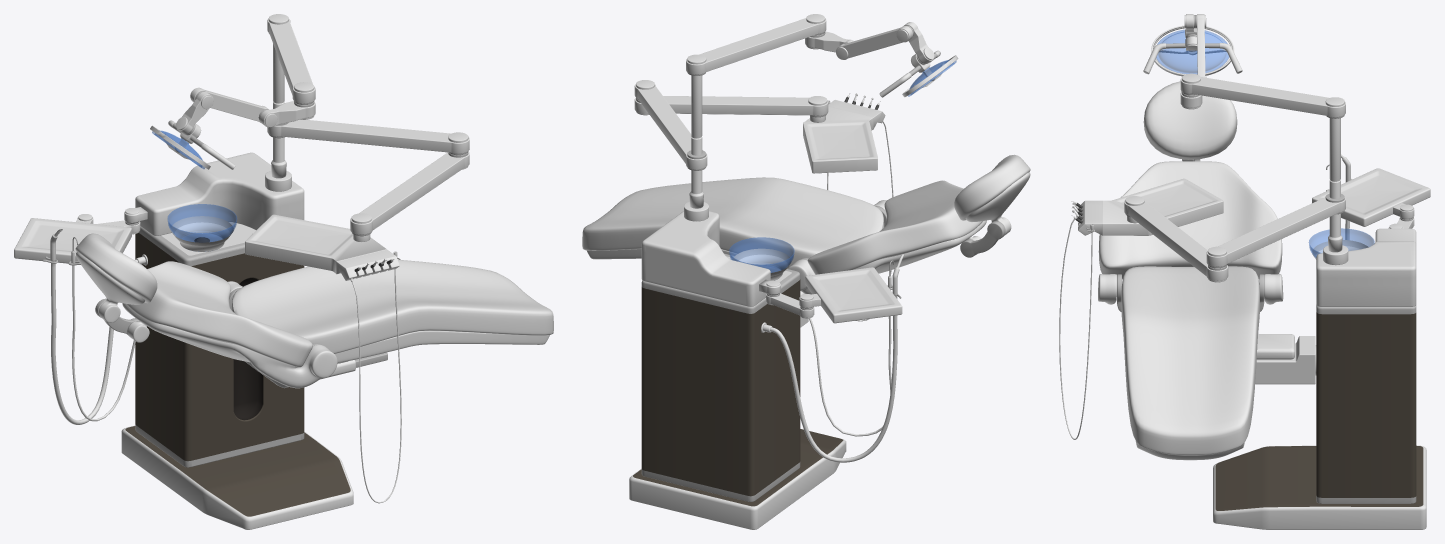
The model's file is SiegeDocteur.fbx.
3 renders of one model, left to right at view 1: azimuth 30°, elevation 25°; view 2: azimuth 150°, elevation 25°; view 3: azimuth 270°, elevation 25°, orthographic. The views are drawn at different scales.
Visible parts, largest first — view 1: DoctorBed, BottomSeet, BackRest, DentalTray, BottomUpperArm, HeadRest, TopForeArm.003, BottomForeArm, TopUpperArm, SuckerLarge, LightFitting, TopForeArm (+4 smaller); view 2: DoctorBed, BottomSeet, BackRest, DentalTray, TopForeArm.003, HeadRest, BottomForeArm, TopUpperArm, BottomUpperArm, SuckerLarge, TopForeArm, LightFitting (+5 smaller); view 3: DoctorBed, BottomSeet, BackRest, HeadRest, DentalTray, TopForeArm.003, TopUpperArm, LightFitting, BottomUpperArm, BottomForeArm, DrillCord, TopForeArm.
Part boxes in pixels (x1,y1,x2,y2): DoctorBed: (121,44,353,529); BottomSeet: (231,259,553,385); BackRest: (122,261,337,388); DentalTray: (245,214,400,280); BottomUpperArm: (267,119,469,155); HeadRest: (75,233,157,322); TopForeArm.003: (14,214,131,265); BottomForeArm: (350,151,469,236); TopUpperArm: (267,14,315,104); SuckerLarge: (50,229,147,424); LightFitting: (150,120,235,169); TopForeArm: (190,87,269,122); DoctorBed: (629,75,846,529); BottomSeet: (582,177,884,327); BackRest: (788,180,986,294); DentalTray: (803,100,885,173); TopForeArm.003: (799,267,902,323); HeadRest: (954,154,1030,235); BottomForeArm: (634,96,828,117); TopUpperArm: (686,14,826,75); BottomUpperArm: (634,80,707,170); SuckerLarge: (761,254,904,462); TopForeArm: (836,26,912,59); LightFitting: (879,50,958,97); DoctorBed: (1213,118,1426,529); BottomSeet: (1121,266,1316,460); BackRest: (1098,161,1283,304); HeadRest: (1143,81,1237,161); DentalTray: (1078,178,1223,235); TopForeArm.003: (1312,168,1430,226); TopUpperArm: (1180,73,1345,118); LightFitting: (1143,25,1242,76); BottomUpperArm: (1206,193,1345,268); BottomForeArm: (1124,196,1228,282); DrillCord: (1059,216,1093,439); TopForeArm: (1195,14,1206,77).
Bounding box in the file's own units: 162 × 158 × 123.
